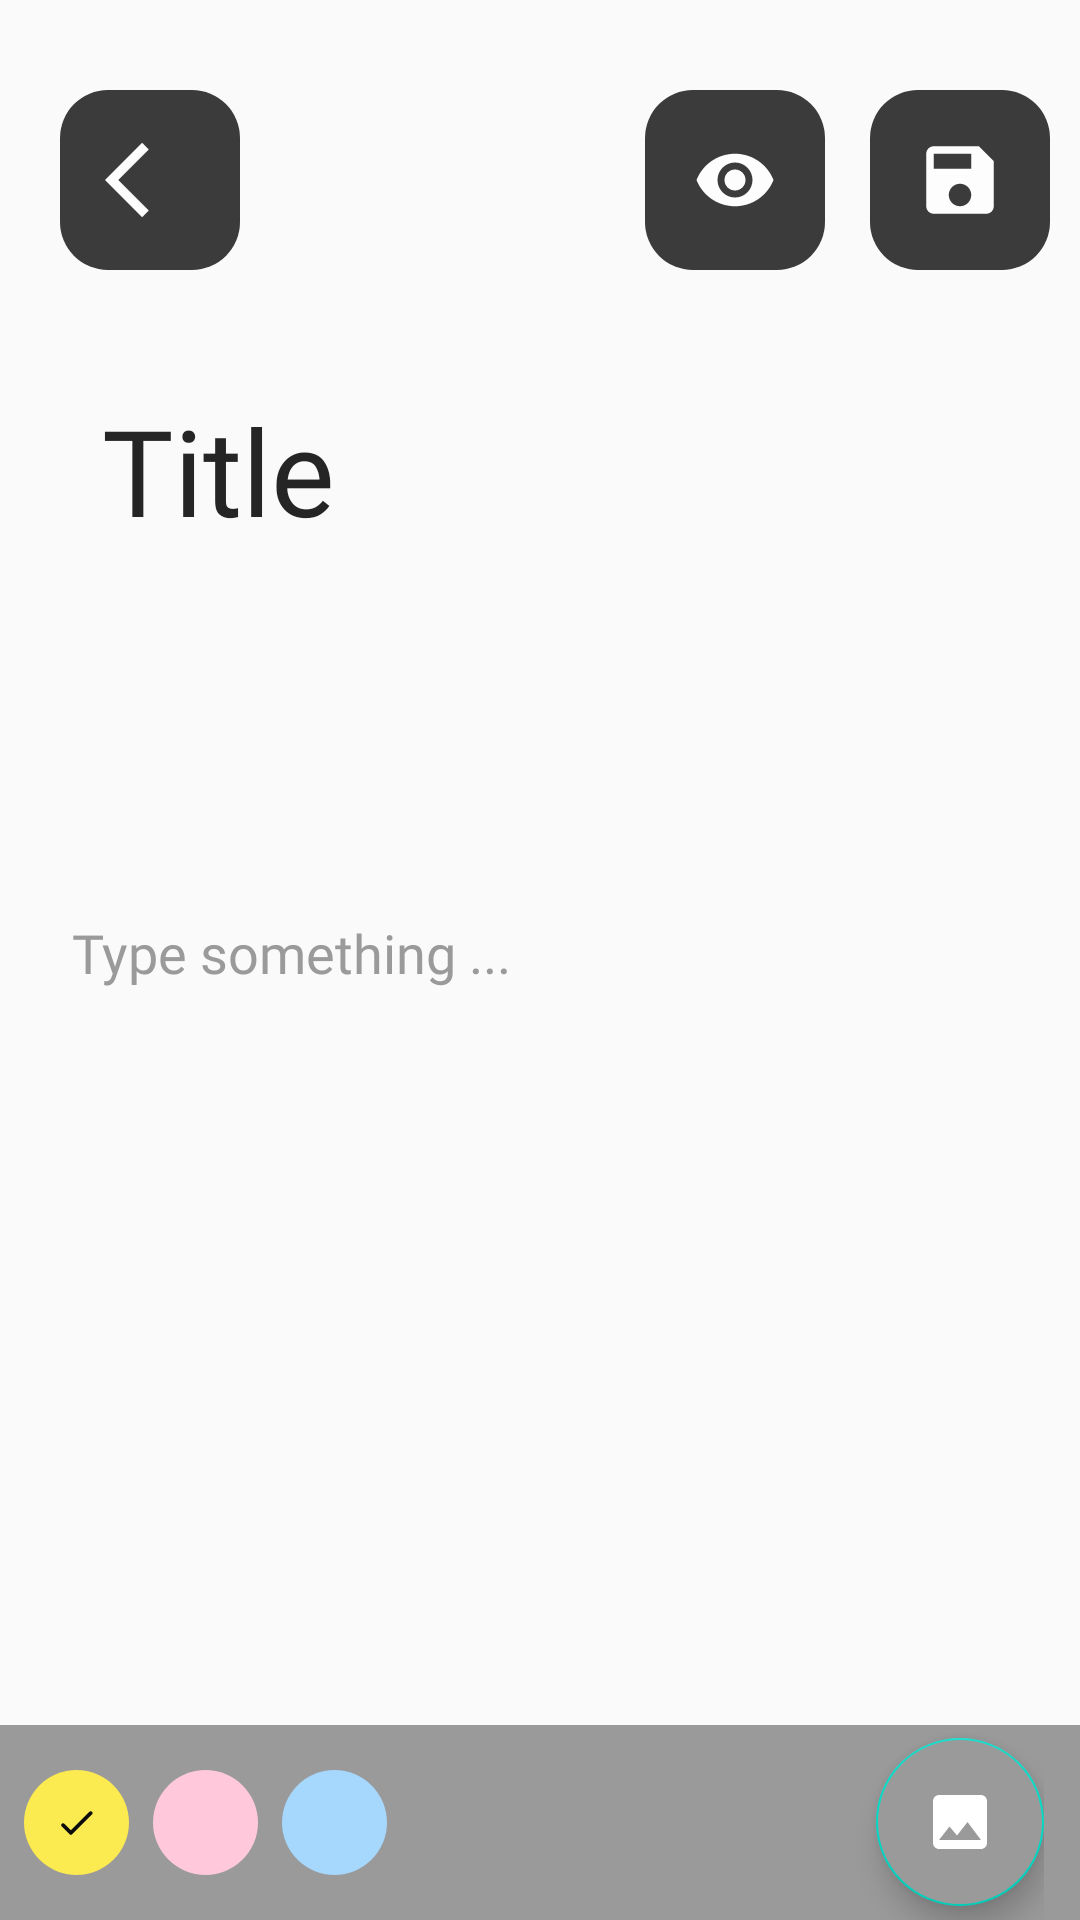

Icon click points for this 1080 x 1920 phone screenshot, format (x,y):
arrow back: (150,180)
done: (77,1823)
save: (960,180)
